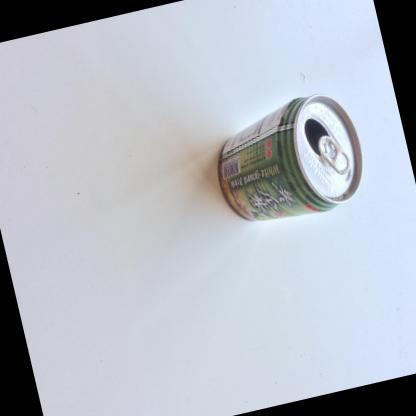Metal: (217, 94, 362, 222), (318, 136, 350, 175)
